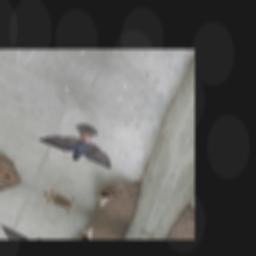Swallow: (34, 107, 124, 177)
